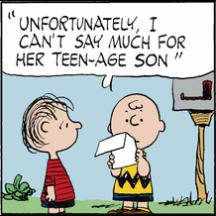charlie: (106, 93, 166, 214)
